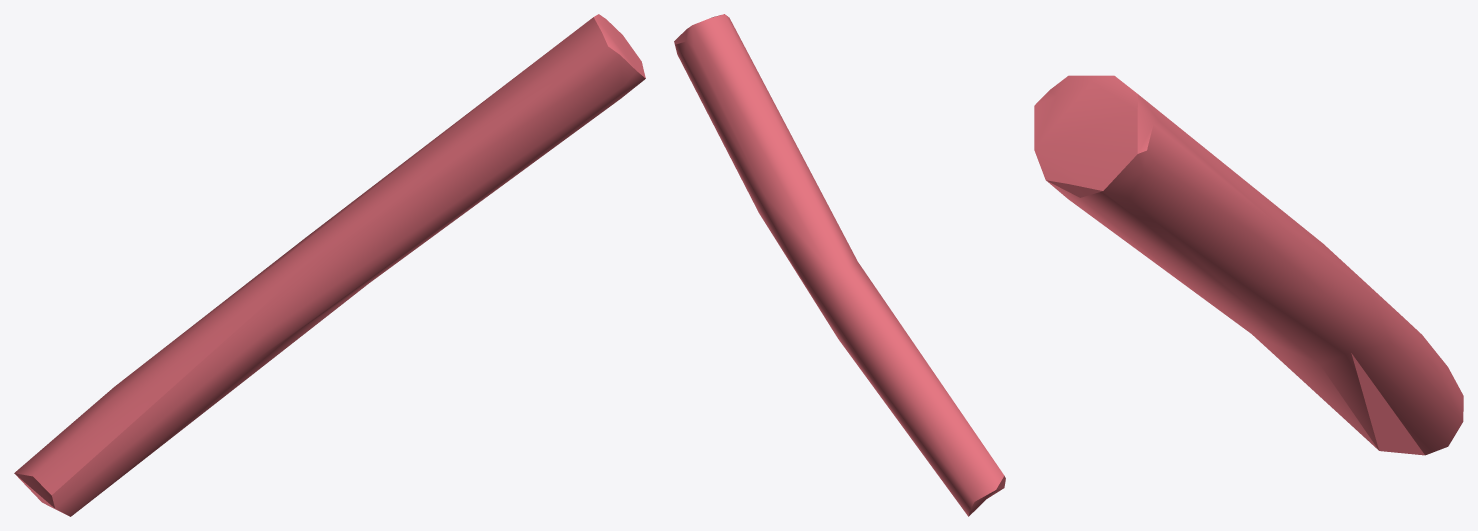
File: fma14819_fj2034.glb
3 views of the same model, side by side, from view 1: azimuth 30°, elevation 25°; view 2: azimuth 150°, elevation 25°; view 3: azimuth 270°, elevation 25° (orthographic). The views are drawn at different scales.
Visible parts, largest first — view 1: FMA14819_FJ2034; view 2: FMA14819_FJ2034; view 3: FMA14819_FJ2034.
Part boxes in pixels (left/top/right/bottom): FMA14819_FJ2034: left=14, top=14, right=645, bottom=516; FMA14819_FJ2034: left=674, top=14, right=1005, bottom=516; FMA14819_FJ2034: left=1034, top=75, right=1463, bottom=455.
Size of the model in its own units: 0.0243 by 0.0204 by 0.0112.
